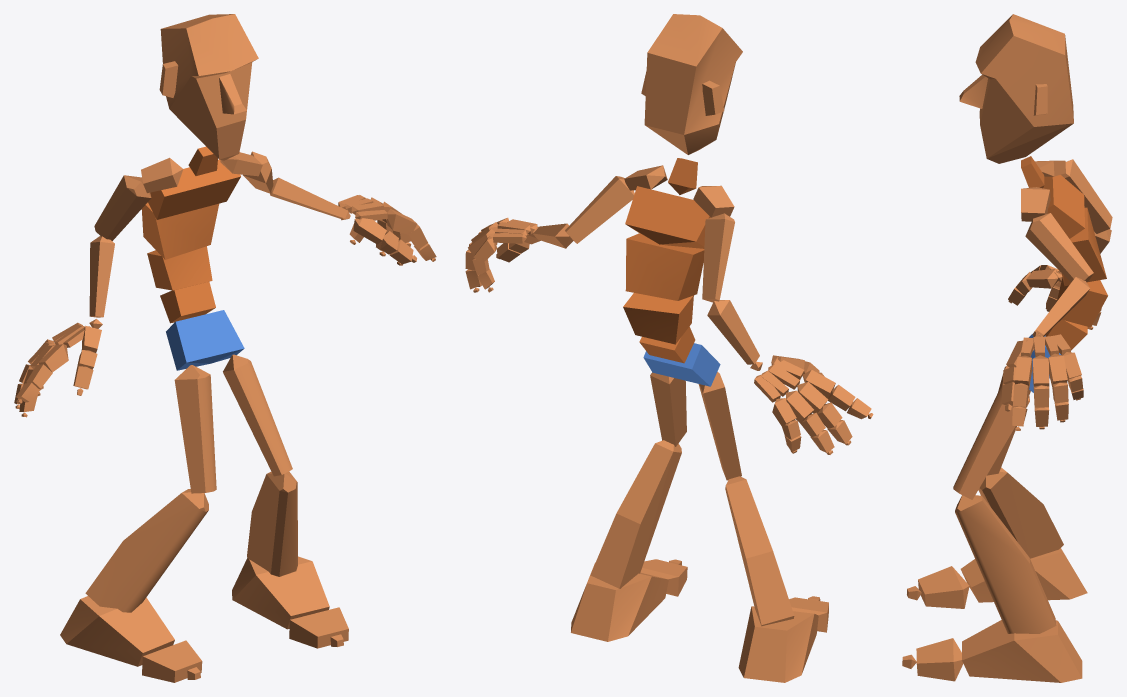
3 renders of one model, left to right at view 1: azimuth 30°, elevation 25°; view 2: azimuth 150°, elevation 25°; view 3: azimuth 270°, elevation 25°, orthographic.
Visible parts, largest first — view 1: BOPED_Head, BOPED_R_leg, BOPED_R_foot, BOPED_L_leg, BOPED_R_foot01, BOPED_R_legup, BOPED_L_legup, Bone01, Bone04, Bone05, Bone03, BOPED_R_arm_upper (+7 smaller); view 2: BOPED_Head, BOPED_L_leg, BOPED_R_leg, BOPED_R_foot01, BOPED_R_foot, Bone04, Bone05, Bone03, BOPED_R_legup, BOPED_R_arm_upper, BOPED_L_legup, BOPED_L_arm_upper (+9 smaller); view 3: BOPED_Head, BOPED_L_leg, BOPED_R_foot01, BOPED_R_leg, BOPED_L_legup, BOPED_R_foot, BOPED_L_arm_upper, Bone05, BOPED_R_foot_toe01, BOPED_R_foot_toe04, BOPED_R_arm_upper, Bone04 (+14 smaller).
Boxes of the visible parts, <box> form: BOPED_Head: <box>159,14,258,160</box>; BOPED_R_leg: <box>85,489,208,612</box>; BOPED_R_foot: <box>60,596,174,666</box>; BOPED_L_leg: <box>247,471,297,576</box>; BOPED_R_foot01: <box>232,556,329,629</box>; BOPED_R_legup: <box>174,365,216,493</box>; BOPED_L_legup: <box>223,354,292,476</box>; Bone01: <box>166,310,244,370</box>; Bone04: <box>141,202,219,259</box>; Bone05: <box>148,159,240,219</box>; Bone03: <box>147,246,212,290</box>; BOPED_R_arm_upper: <box>94,175,151,240</box>; BOPED_Head: <box>641,14,742,154</box>; BOPED_L_leg: <box>590,440,681,588</box>; BOPED_R_leg: <box>725,476,794,626</box>; BOPED_R_foot01: <box>571,563,668,641</box>; BOPED_R_foot: <box>738,606,818,682</box>; Bone04: <box>625,233,704,300</box>; Bone05: <box>625,186,710,248</box>; Bone03: <box>623,293,693,344</box>; BOPED_R_legup: <box>698,372,741,480</box>; BOPED_R_arm_upper: <box>702,213,734,302</box>; BOPED_L_legup: <box>650,372,686,446</box>; BOPED_L_arm_upper: <box>565,176,634,243</box>; BOPED_Head: <box>959,14,1073,163</box>; BOPED_L_leg: <box>955,495,1056,633</box>; BOPED_R_foot01: <box>962,620,1082,682</box>; BOPED_R_leg: <box>978,467,1063,558</box>; BOPED_L_legup: <box>953,383,1029,499</box>; BOPED_R_foot: <box>960,548,1087,602</box>; BOPED_L_arm_upper: <box>1025,213,1093,282</box>; Bone05: <box>1043,175,1085,238</box>; BOPED_R_foot_toe01: <box>918,566,969,608</box>; BOPED_R_foot_toe04: <box>916,638,963,681</box>; BOPED_R_arm_upper: <box>1061,159,1112,233</box>; Bone04: <box>1061,207,1106,286</box>.
Size of the model in its own units: 130 by 186 by 57.69.
